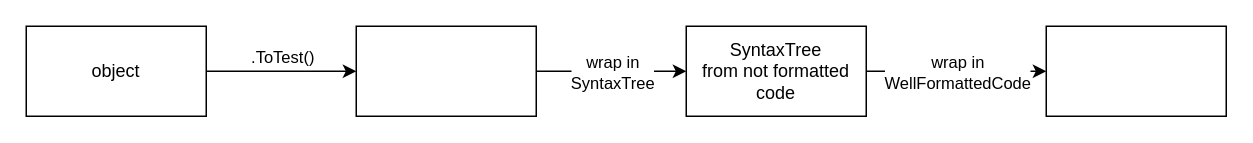
The diagram is 1253 pixels wide and 143 high, and some of its shapes have lost their labels. The centre of each missing label's shape, as x and y in pixels:
not formatted code: point (445, 70)
WellFormattedCode can be printed via ToString(): point (1135, 70)
